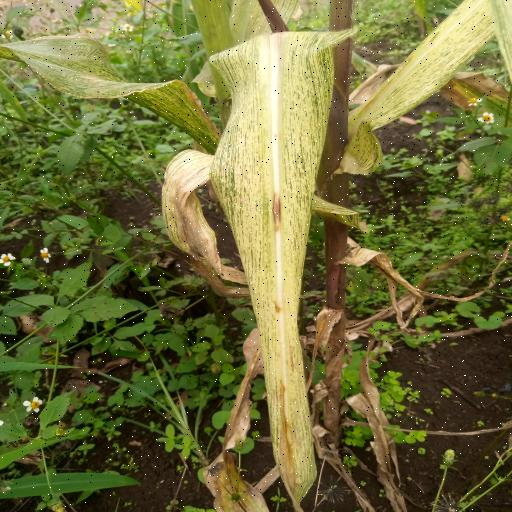Corn_Streak: (204, 28, 353, 496)
